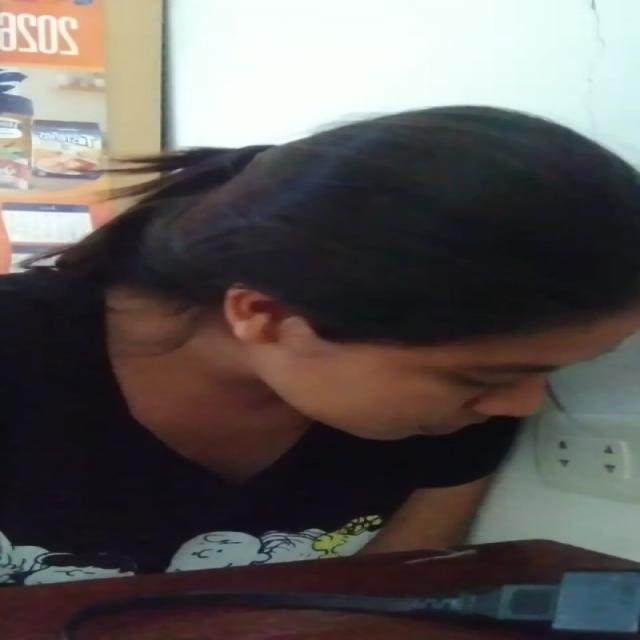9_cabeza_baja: (160, 101, 640, 441)
